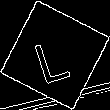L_N: (32, 26, 78, 84)
